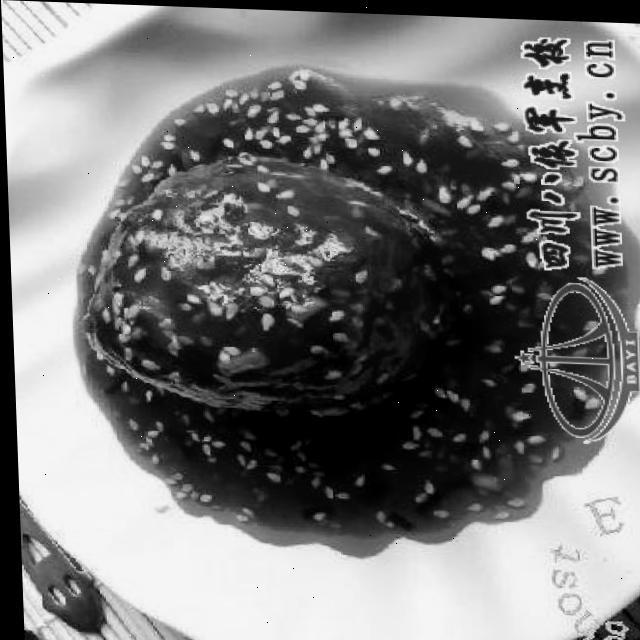猪肉菜式: (22, 23, 640, 635)
